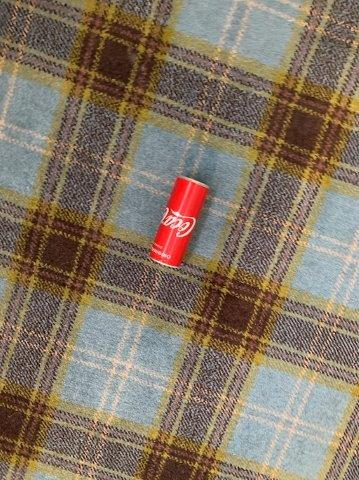kaleng: (149, 176, 210, 268)
